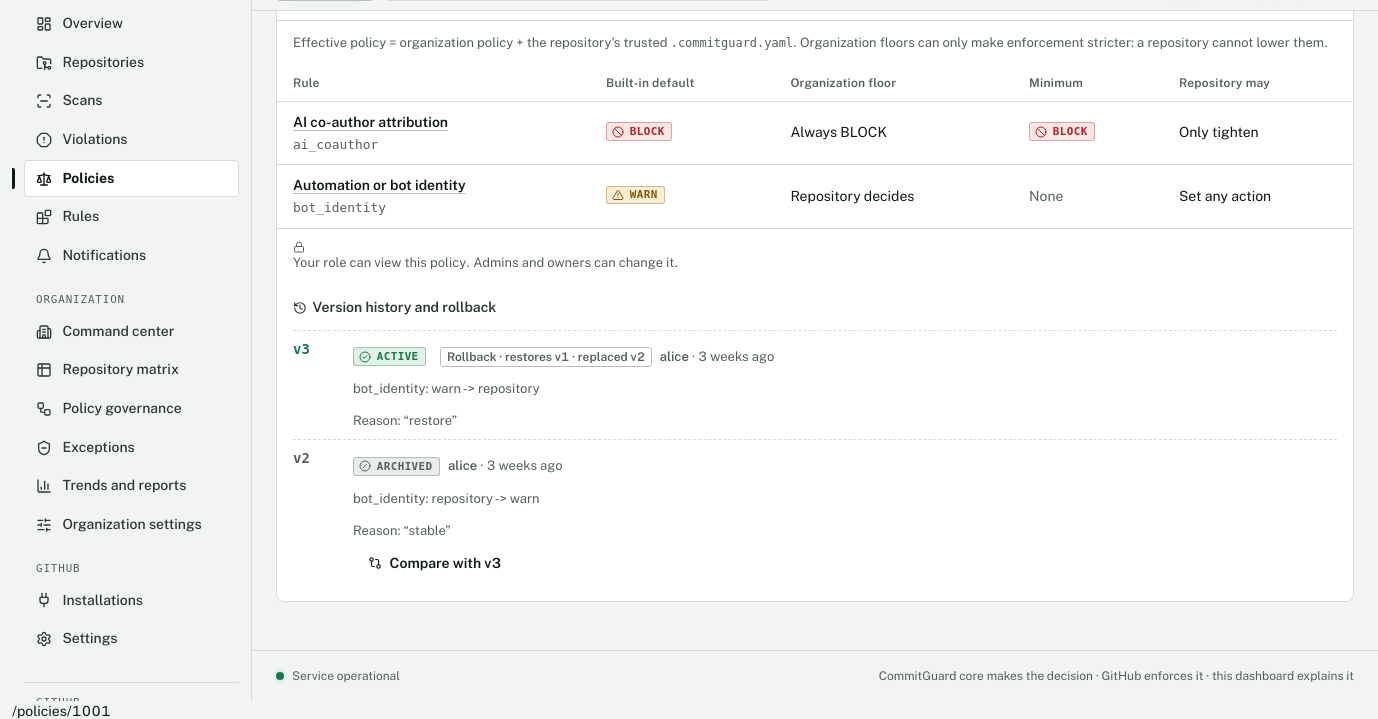
policy rollback › does not offer rollback without policies:rollback and compares versions for everyone
(page scrolled)
Expected: the text "Rollback · restores v1 · replaced v2" is shown, [440,346,652,367]
Step 1. Click the button "Compare with v3" → (435, 563), box [353,545,517,581]
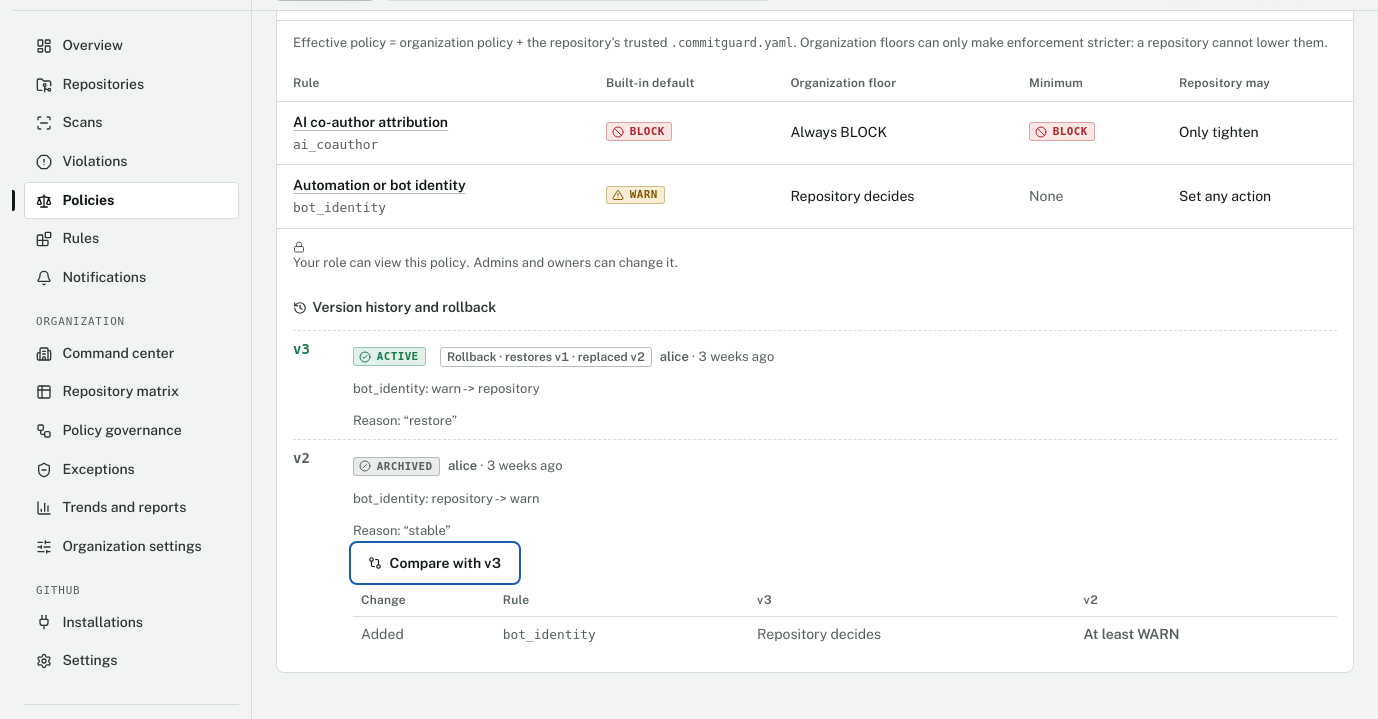
Now the table named "Differences from v3 to v2" is shown, box [353,585,1337,652]
